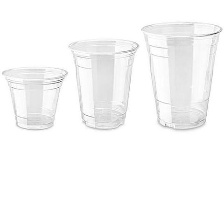glass: (134, 18, 223, 133), (62, 35, 142, 132), (0, 61, 72, 132)
